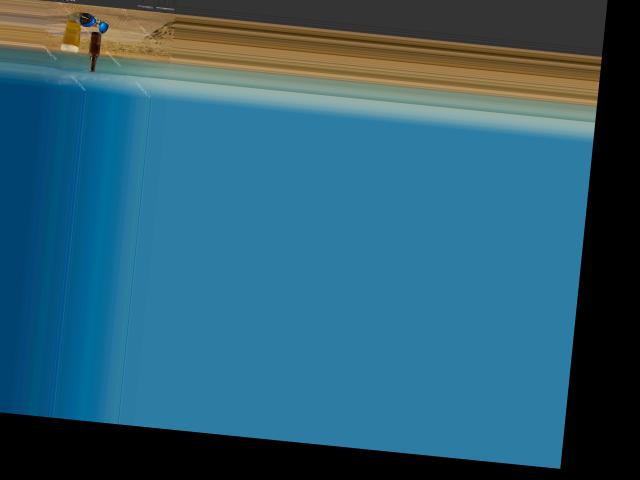beer: (87, 31, 102, 72)
